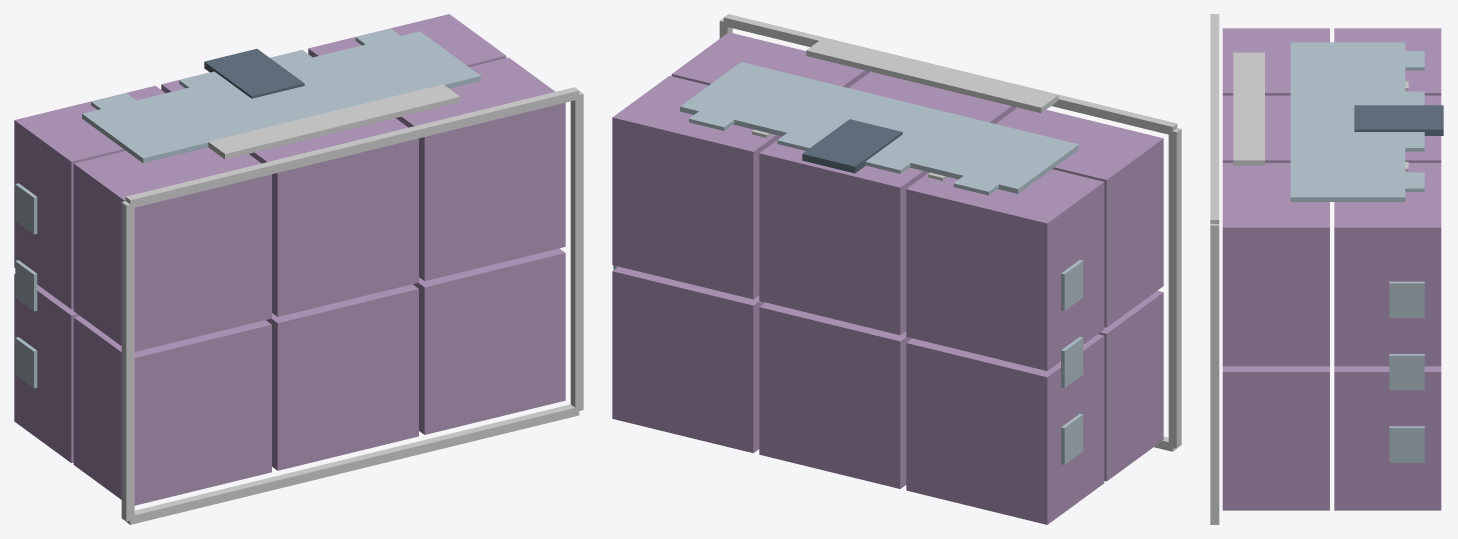
Rendered from building-clothing-store.glb.
3 renders of one model, left to right at view 1: azimuth 30°, elevation 25°; view 2: azimuth 150°, elevation 25°; view 3: azimuth 270°, elevation 25°, orthographic. The views are drawn at different scales.
Parts seen in each view (by area): view 1: world; view 2: world; view 3: world.
Part boxes in pixels (x1=…): world: x1=14, y1=14, x2=583, y2=524; world: x1=612, y1=14, x2=1181, y2=524; world: x1=1210, y1=14, x2=1443, y2=524.
Size of the model in its own units: 15.56 by 10.92 by 7.32.
